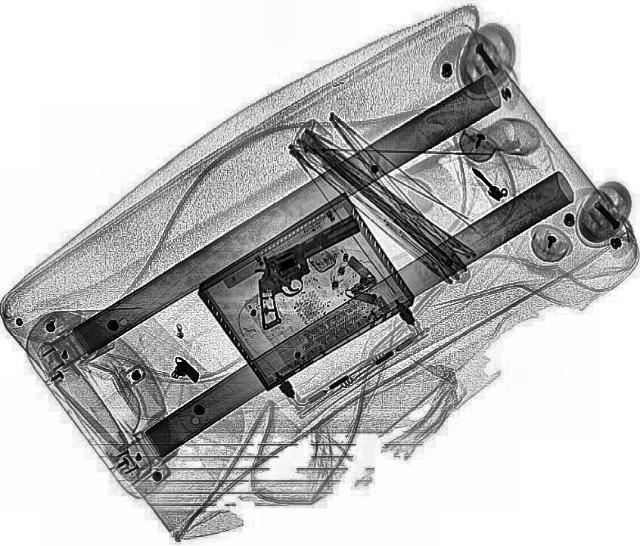Gun: (223, 213, 394, 329)
